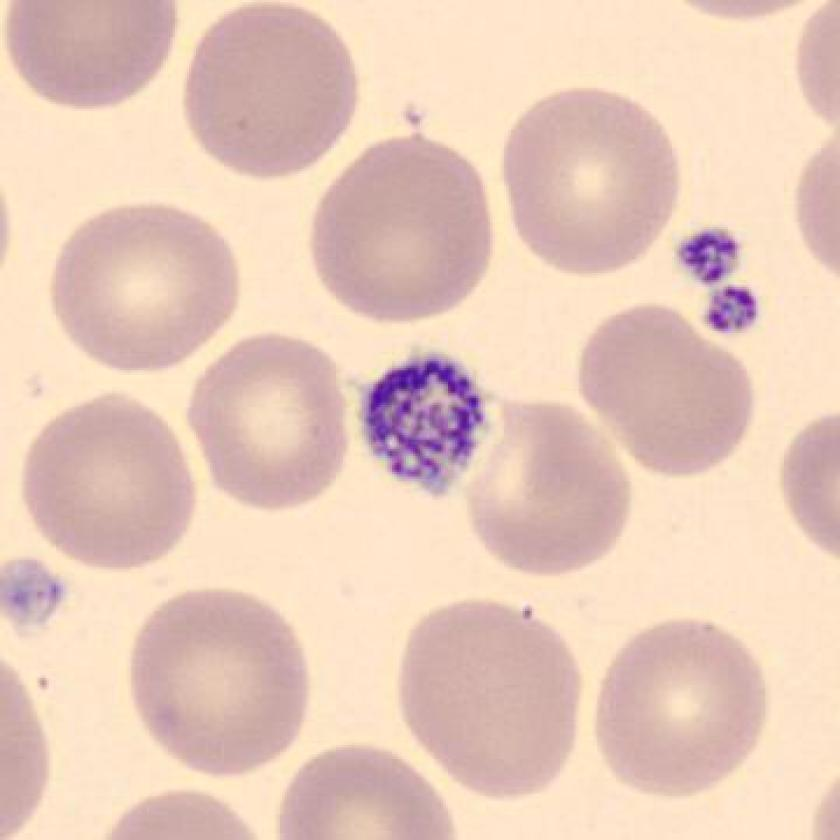platelets: (344, 341, 498, 506), (671, 216, 755, 302), (697, 281, 774, 346)
